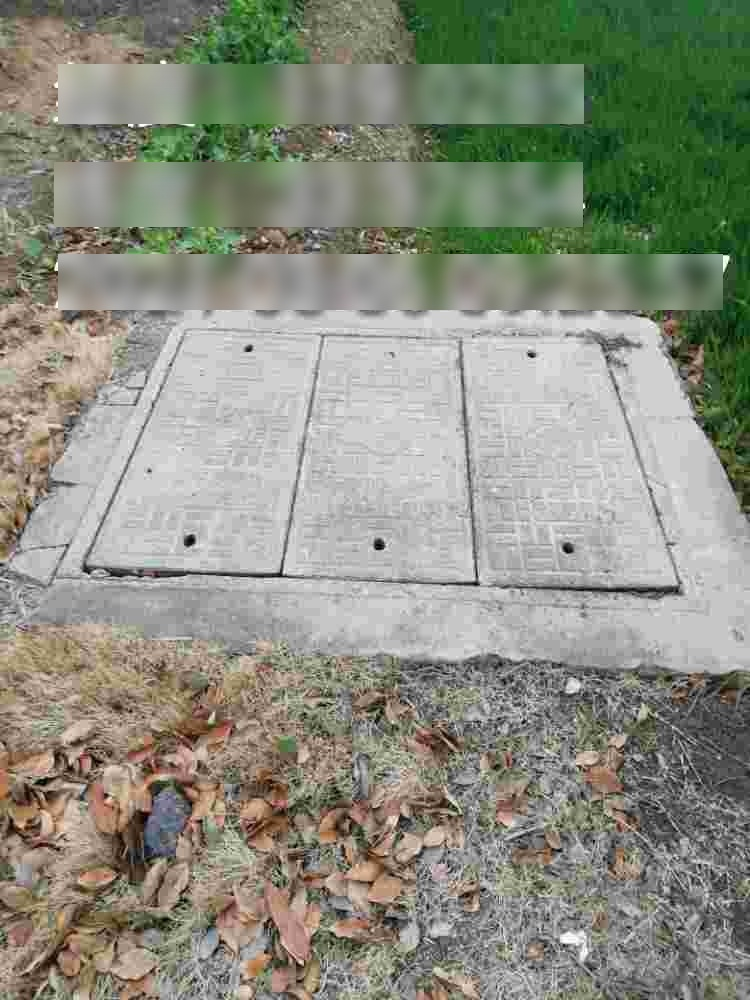good: (49, 316, 702, 608)
